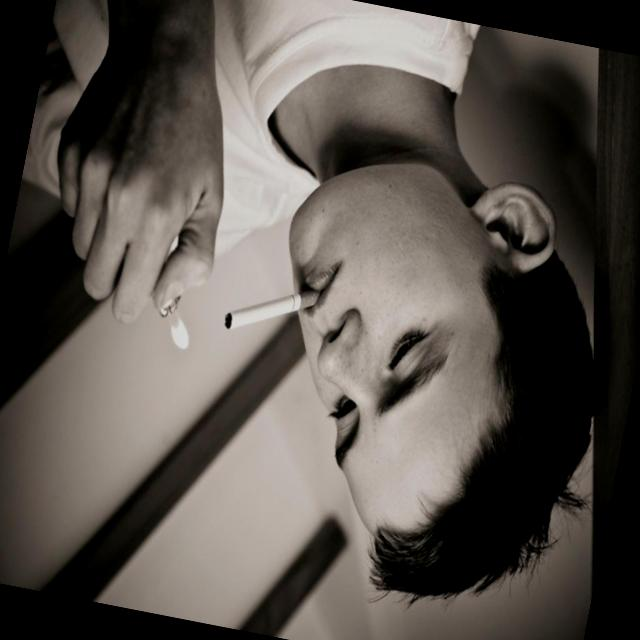cigarette: (221, 276, 320, 346)
